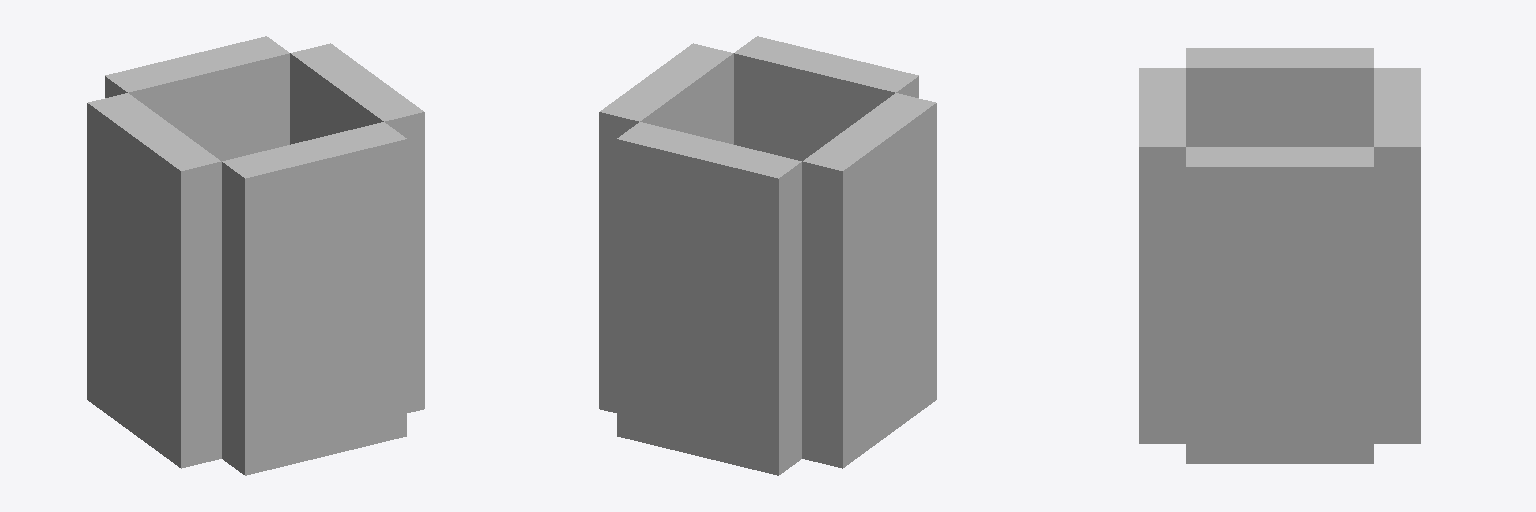
Rendered from cooking_drinking_glass.obj.
3 renders of one model, left to right at view 1: azimuth 30°, elevation 25°; view 2: azimuth 150°, elevation 25°; view 3: azimuth 270°, elevation 25°, orthographic.
Visible parts, largest first — view 1: node_0_0_0; view 2: node_0_0_0; view 3: node_0_0_0.
Boxes of the visible parts, <box> form: node_0_0_0: <box>87,36,424,475</box>; node_0_0_0: <box>599,36,936,475</box>; node_0_0_0: <box>1139,48,1420,463</box>.
Bounding box in the file's own units: 0.375 × 0.4375 × 0.375.